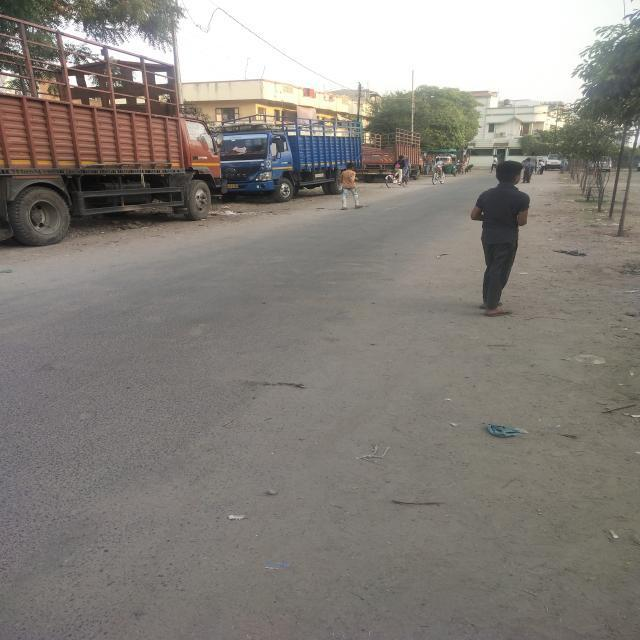truck_back: (0, 13, 226, 255), (356, 124, 432, 186)
truck_front: (214, 108, 366, 209)
